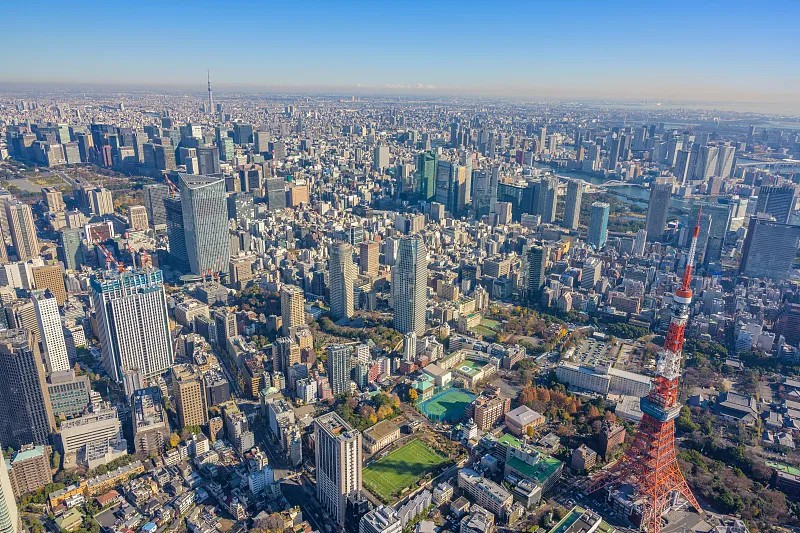Tokyo: (584, 191, 705, 530)
